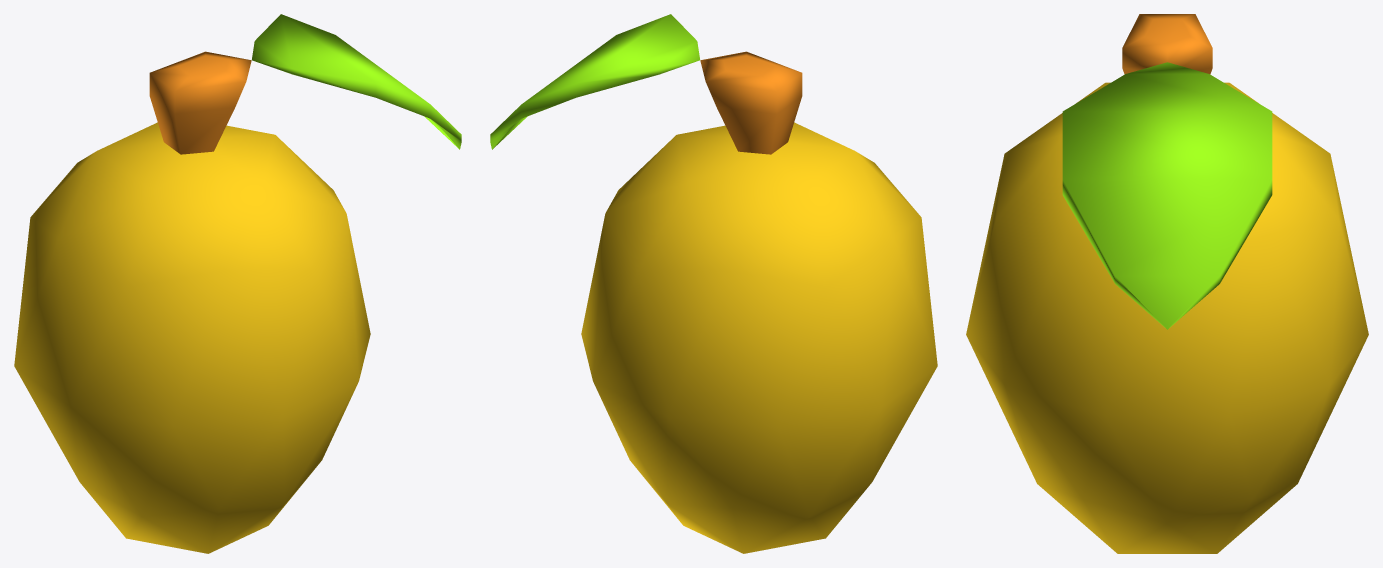
The model's file is item_mango.fbx.
The picture shows the model from 3 angles, left to right: view 1: azimuth 30°, elevation 25°; view 2: azimuth 150°, elevation 25°; view 3: azimuth 270°, elevation 25°; orthographic projection. The views are drawn at different scales.
Parts seen in each view (by area): view 1: Icosphere; view 2: Icosphere; view 3: Icosphere.
Boxes of the visible parts, x1=… form: Icosphere: x1=14, y1=14, x2=461, y2=553; Icosphere: x1=490, y1=14, x2=937, y2=553; Icosphere: x1=966, y1=14, x2=1368, y2=553.
Size of the model in its own units: 191 by 203 by 144.
